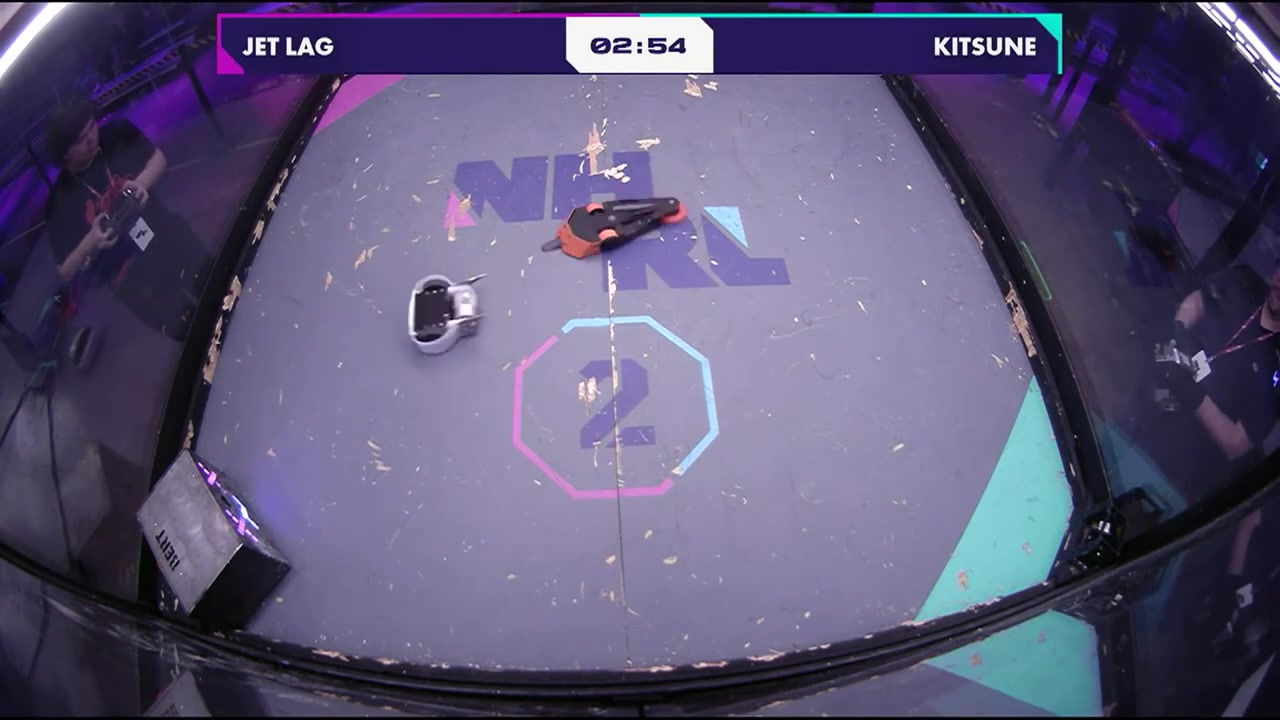combatbot: (557, 197, 685, 257), (406, 272, 477, 357)
housebot: (137, 450, 290, 631)
